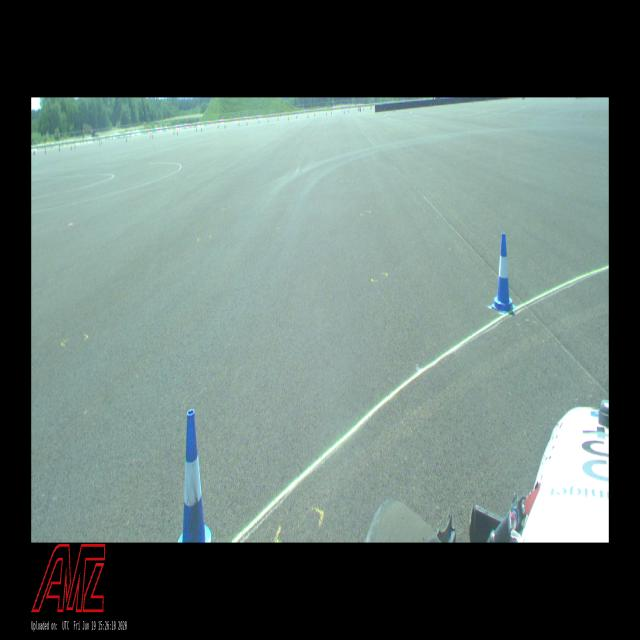blue_cone: (178, 409, 212, 542), (491, 234, 516, 314)
